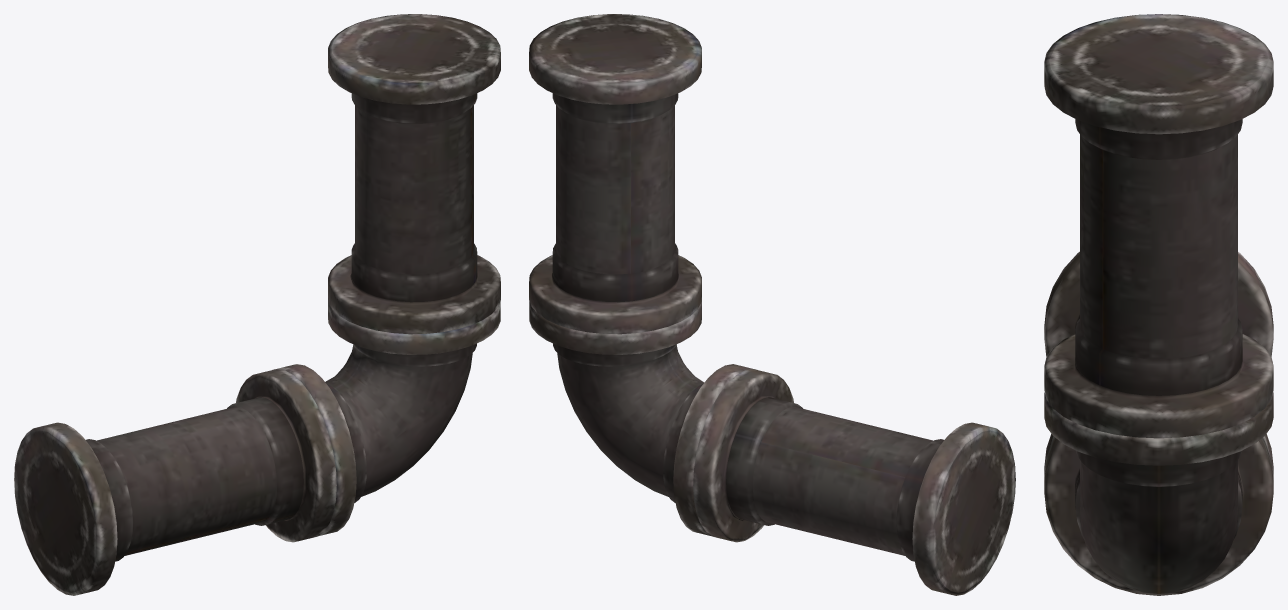
File: pipe_a_crn_150x150.glb
3 views of the same model, side by side, from view 1: azimuth 30°, elevation 25°; view 2: azimuth 150°, elevation 25°; view 3: azimuth 270°, elevation 25° (orthographic). The views are drawn at different scales.
Parts seen in each view (by area): view 1: pipe_a_crn_150x150; view 2: pipe_a_crn_150x150; view 3: pipe_a_crn_150x150.
Part boxes in pixels (x1,y1,x2,y2): pipe_a_crn_150x150: (14,14,500,595); pipe_a_crn_150x150: (529,14,1015,595); pipe_a_crn_150x150: (1044,14,1273,595).
Size of the model in its own units: 1.81 by 1.81 by 0.628.
Materials: 1 (1 with a texture image).
